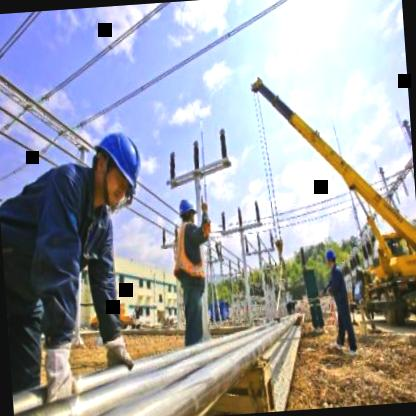helmet: (86, 122, 150, 214), (175, 193, 199, 226), (324, 246, 338, 273)
